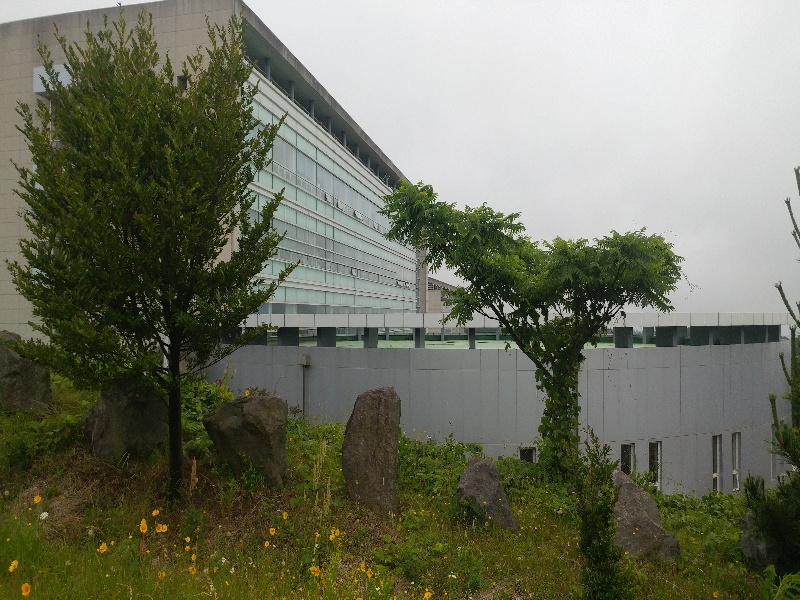College of Marine Science: (1, 23, 425, 327)
